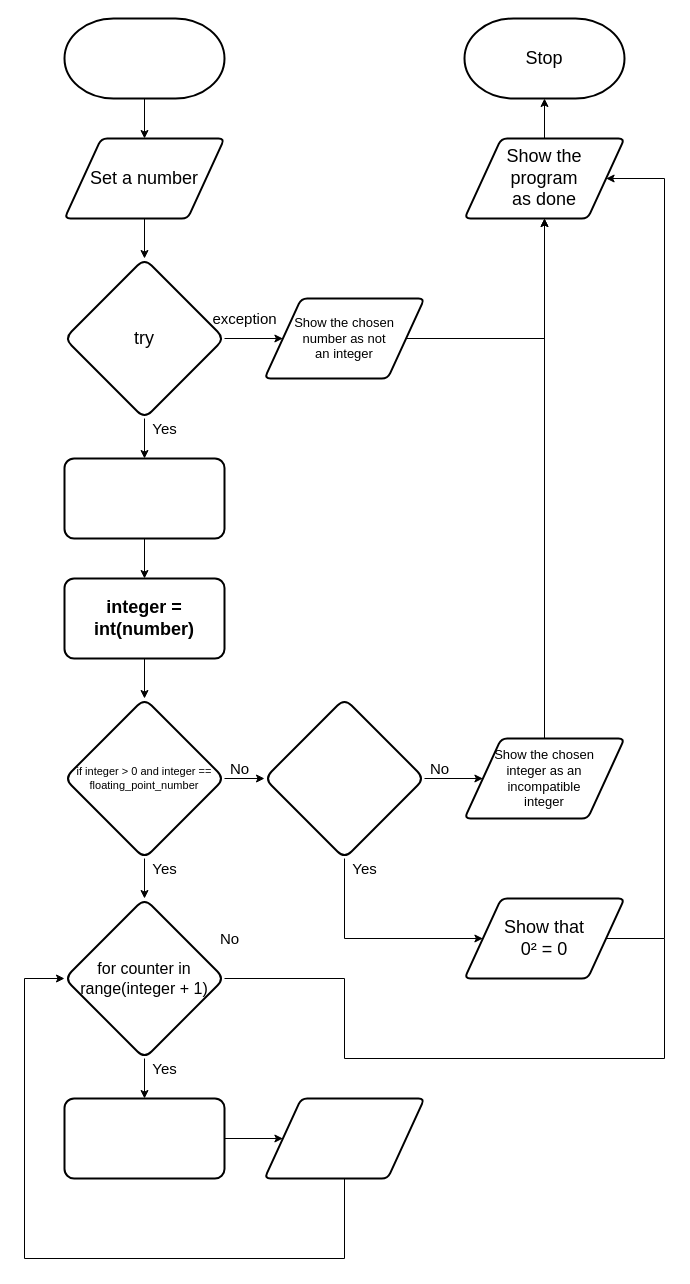
This 690x1284 diagram has some shape labels left out. The shapes that lost their labels are listed below. From the top down, each one's box as (x1, y1, x2, y2) in pixels, then its label:
(63, 17, 225, 99): Start
(63, 457, 225, 539): floating_point_number = float(number)
(263, 697, 425, 859): elif integer == 0 and integer == floating_point_number
(63, 1097, 225, 1179): answer = counter * counter
(263, 1097, 425, 1179): Show the counter squared is equal to the answer
